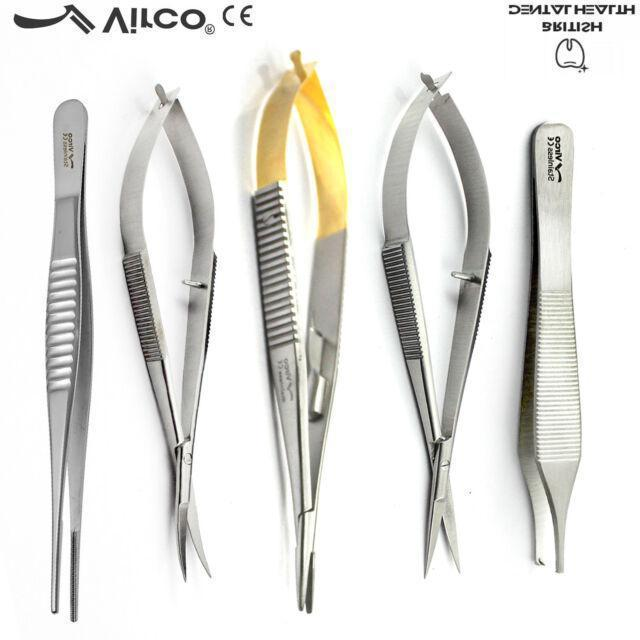Castroviejo: (248, 46, 353, 616)
Forceps: (513, 119, 586, 579), (42, 98, 96, 627)
Potts: (378, 68, 494, 584), (116, 81, 220, 588)
